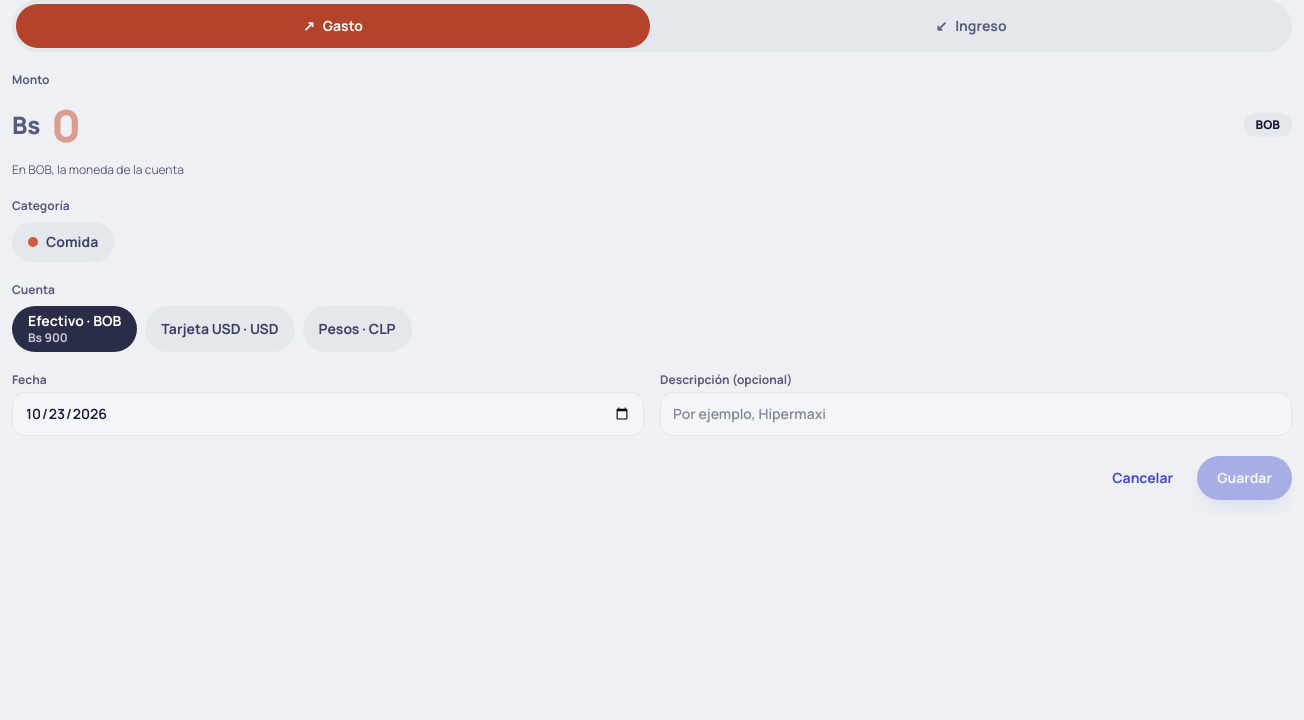
Test: QuickAddForm › RF-4 the currency is the account's and there is no picker
expect the text "BOB" is shown: met, box [1244,113,1292,137]
Click the radio button labelled "Tarjeta USD · USD". click: (220, 329)
box: [145,306,295,352]
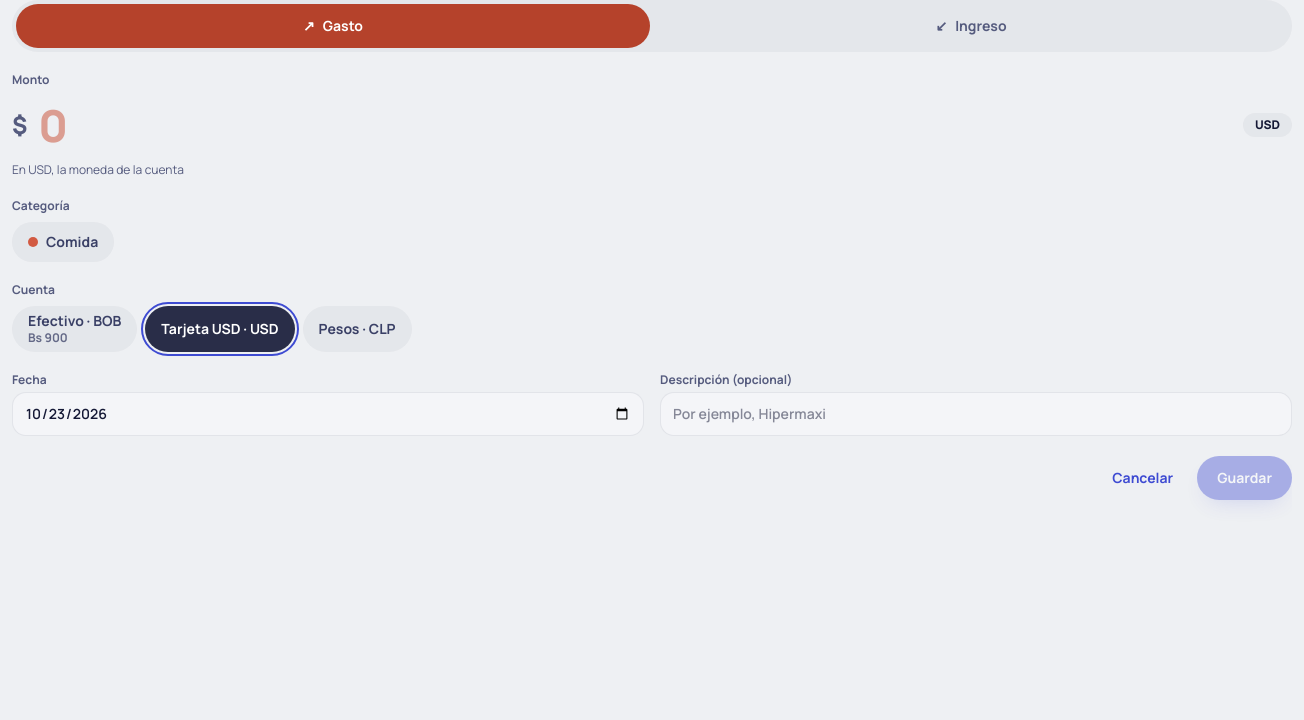
expect the text "USD" is shown: met, box [1243,113,1292,137]
expect the text "En USD, la moneda de la cuenta" is shown: met, box [12,161,184,178]
